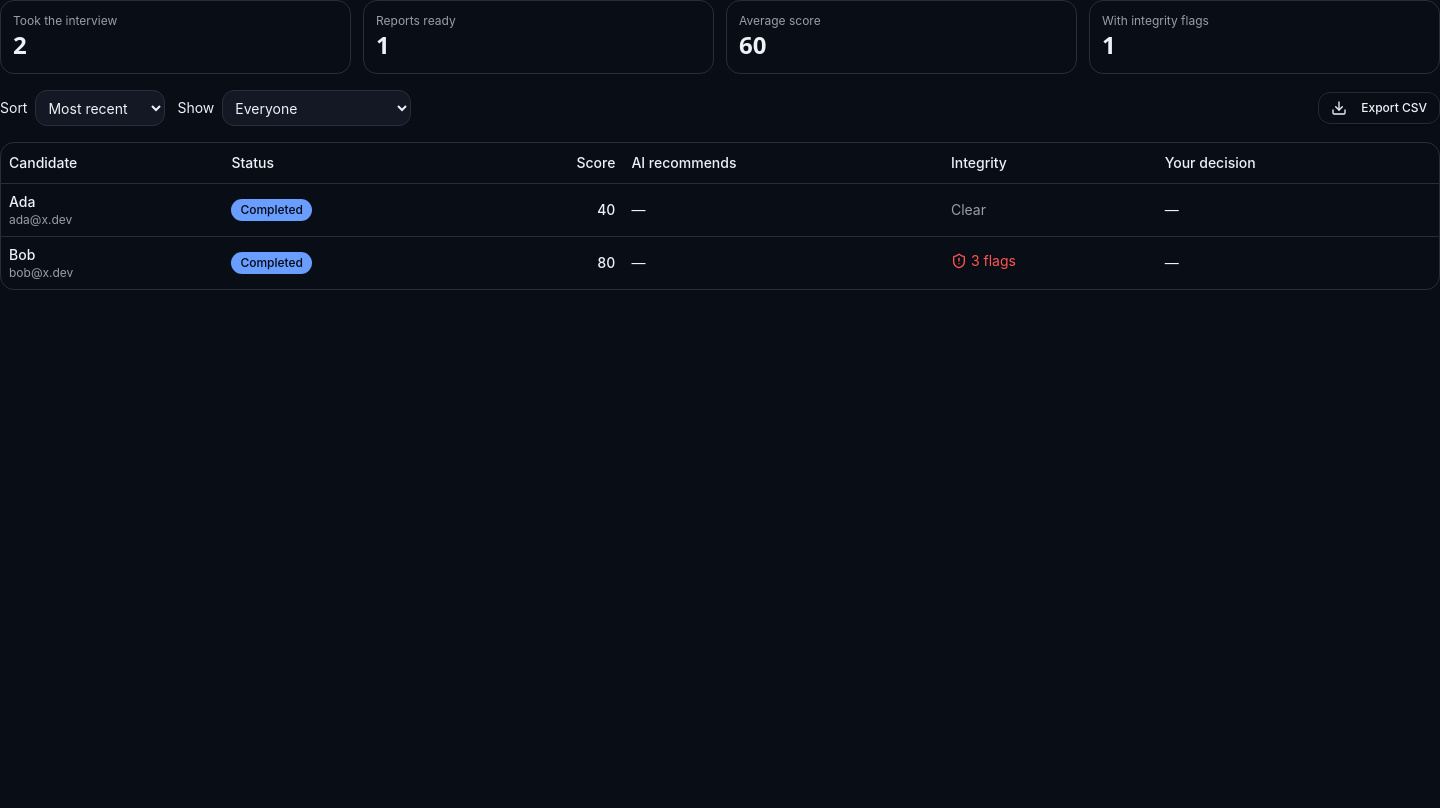
Test: results panel › shows the accommodation request and earlier attempts
Click the button "Ada" at x=22, y=202, box 9,192 -> 35,212
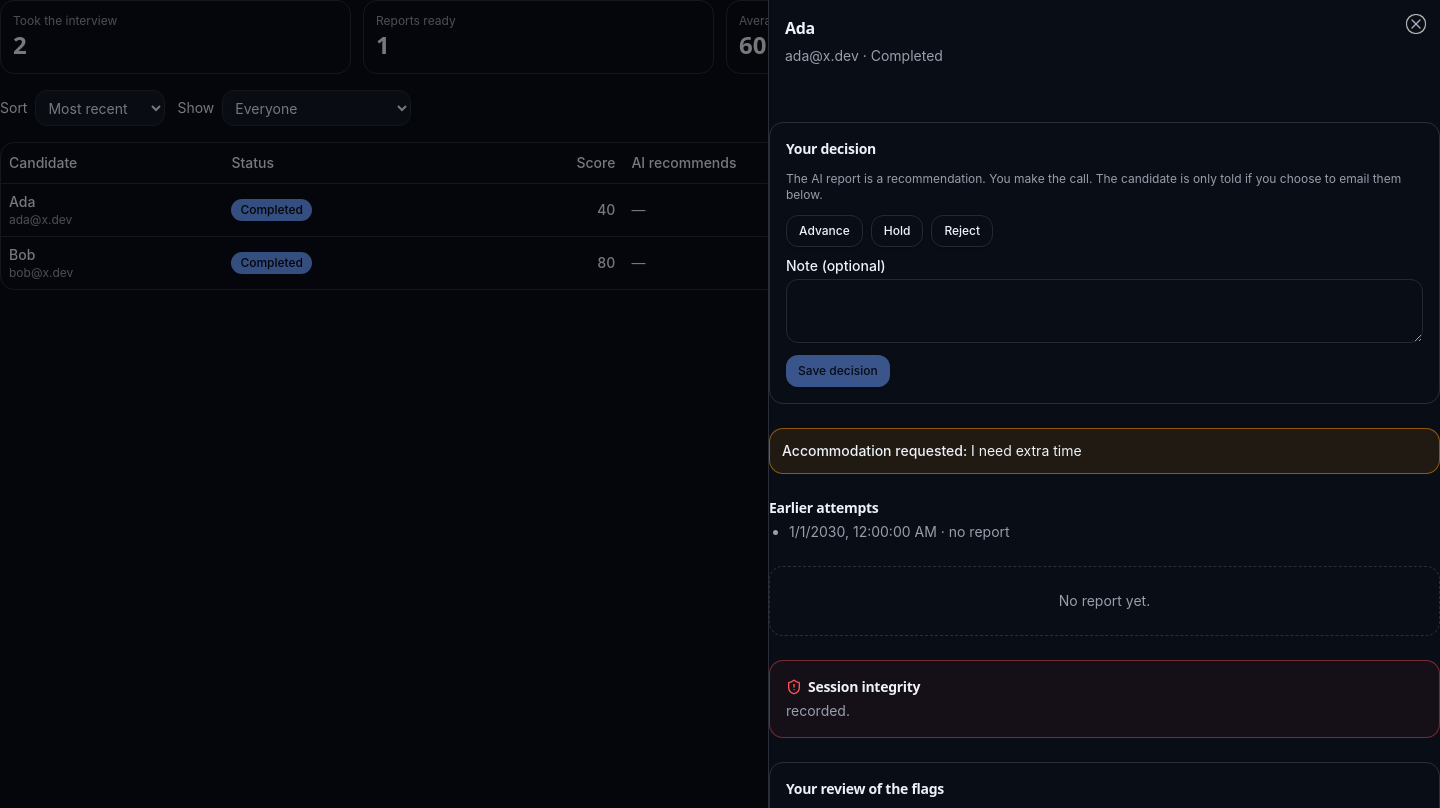
Now the text "I need extra time" is shown, box 971,442 -> 1082,459
Now the heading "Earlier attempts" is shown, box 769,498 -> 878,517
